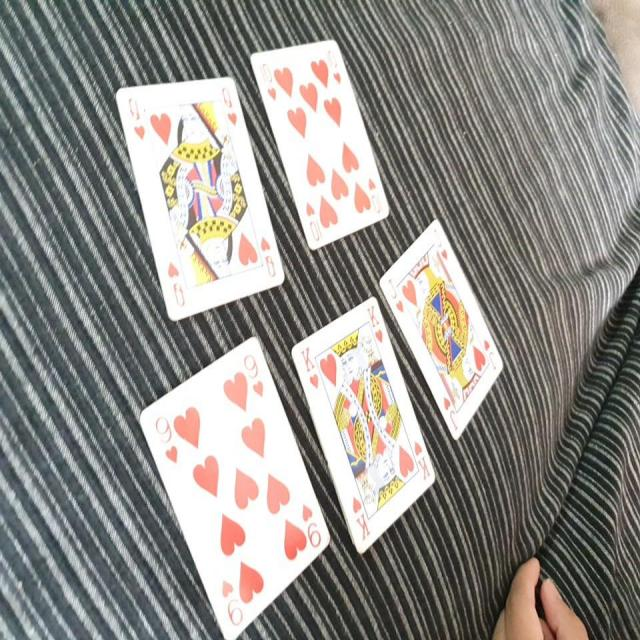10 Hearts: (248, 33, 393, 254)
9 Hearts: (132, 332, 333, 626)
J Hearts: (377, 218, 508, 450)
K Hearts: (288, 295, 438, 557)
Q Hearts: (110, 66, 291, 332)
